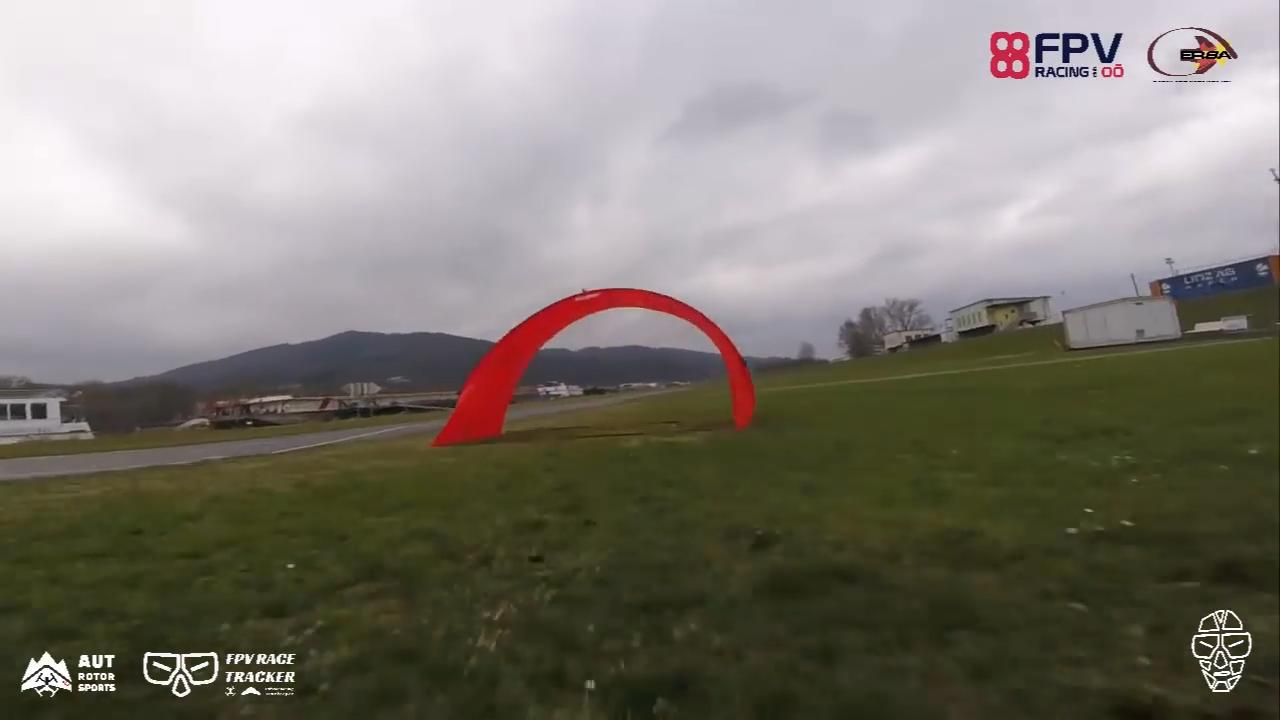gate: (432, 286, 761, 448)
